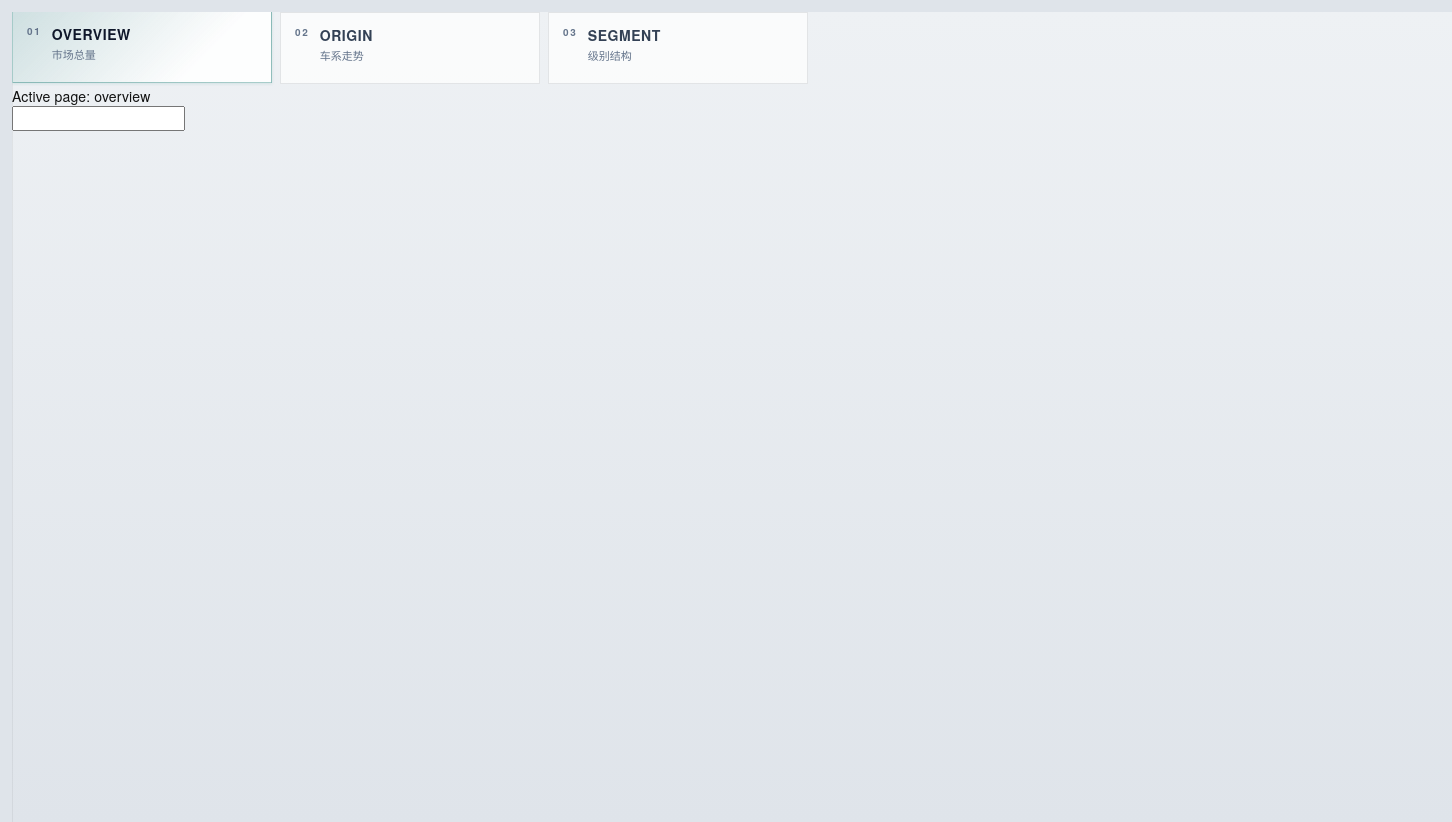
Test: DeckSubpageNav › navigates on tab click
Click the text "Segment". click: (624, 35)
box: [588, 25, 661, 45]
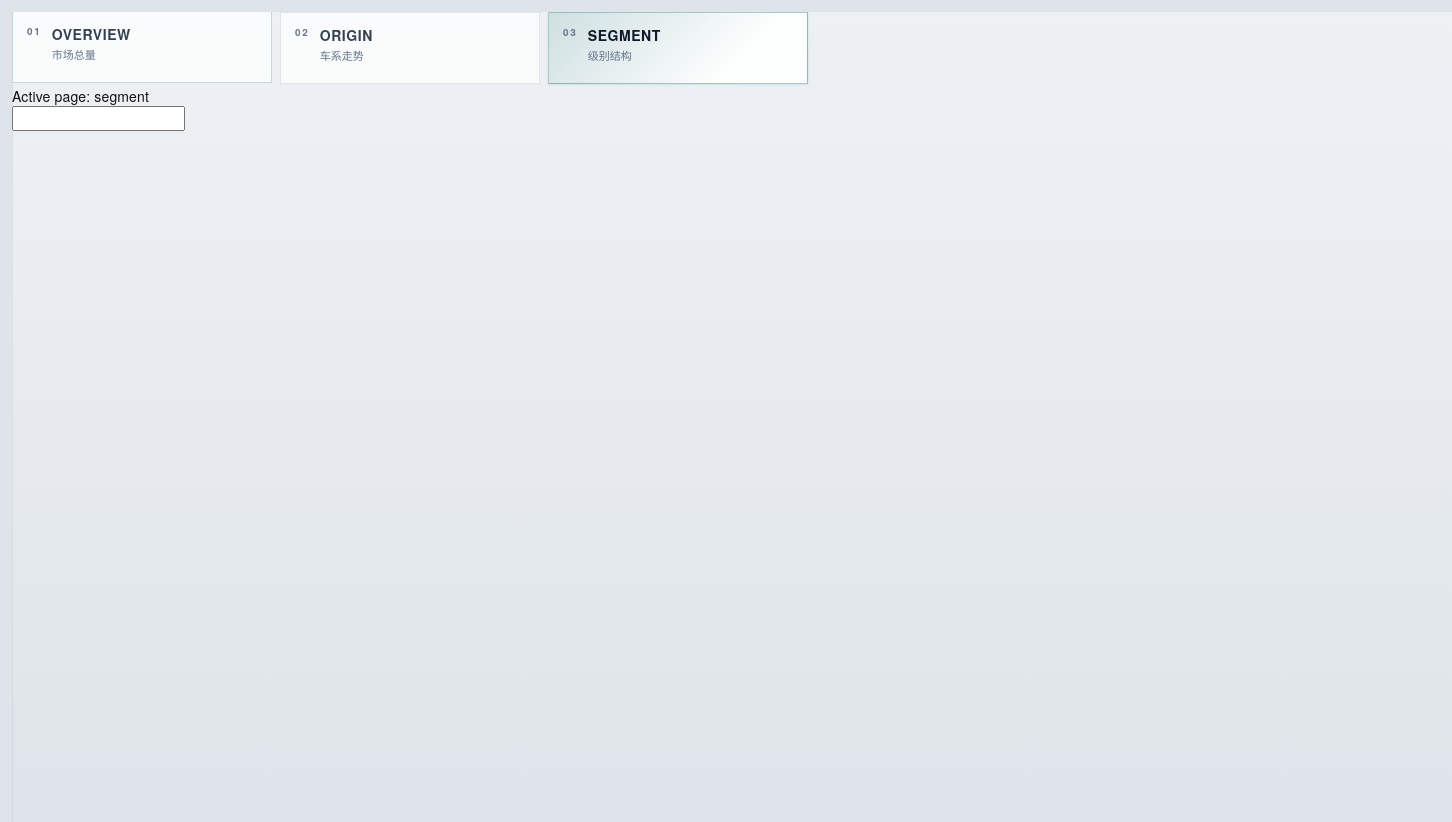
Expected: the text "Active page: segment" is shown, [12, 86, 149, 106]
